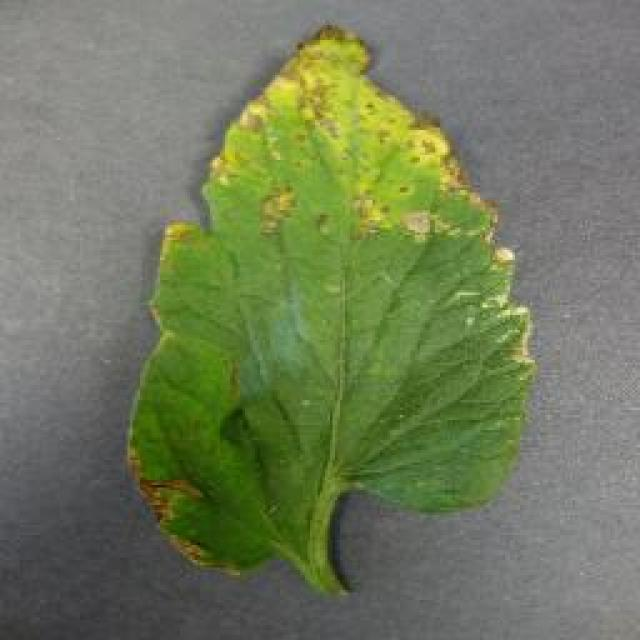bacterial spot: (125, 22, 536, 597)
